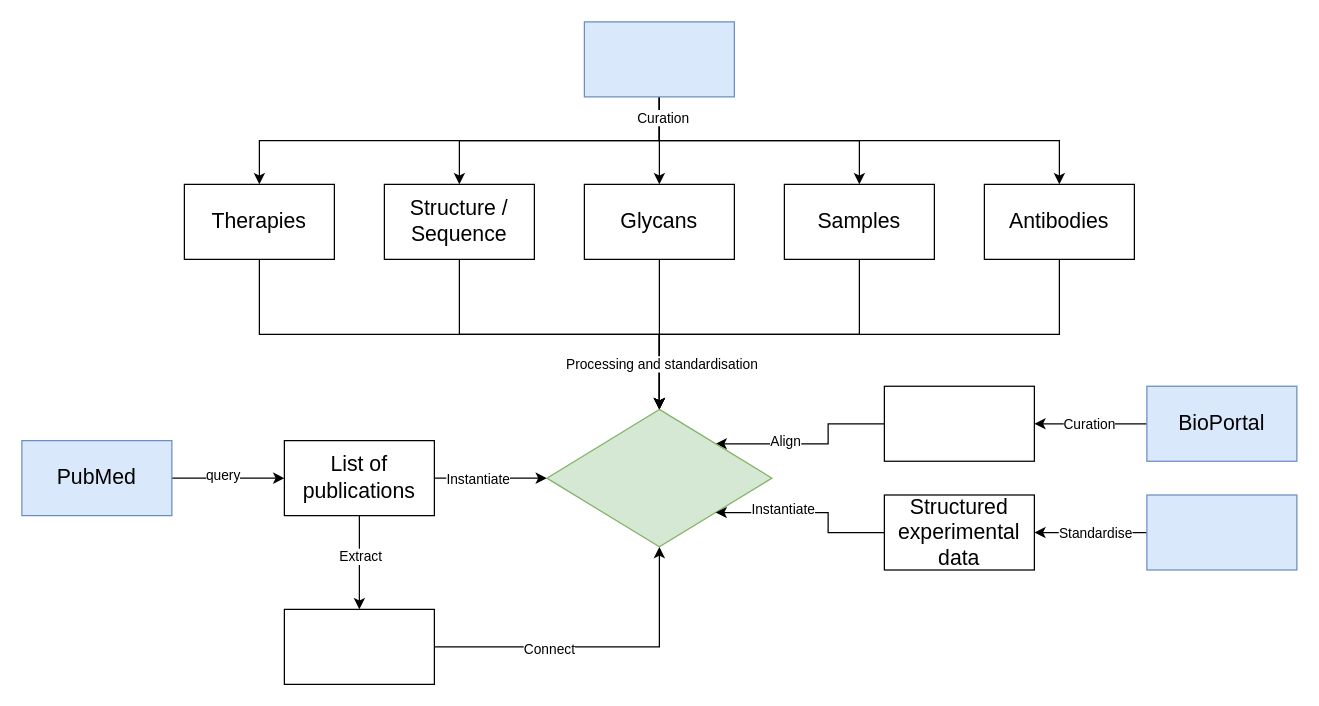
The diagram is 1319 pixels wide and 706 high, and some of its shapes have lost their labels. Each missing label, with the box of its shape:
Data Substrate: (546, 408, 772, 547)
Internal Data: (1146, 494, 1297, 570)
List of ontologies: (883, 385, 1034, 461)
Public databases: (583, 21, 734, 97)
Structured information: (283, 608, 434, 684)
